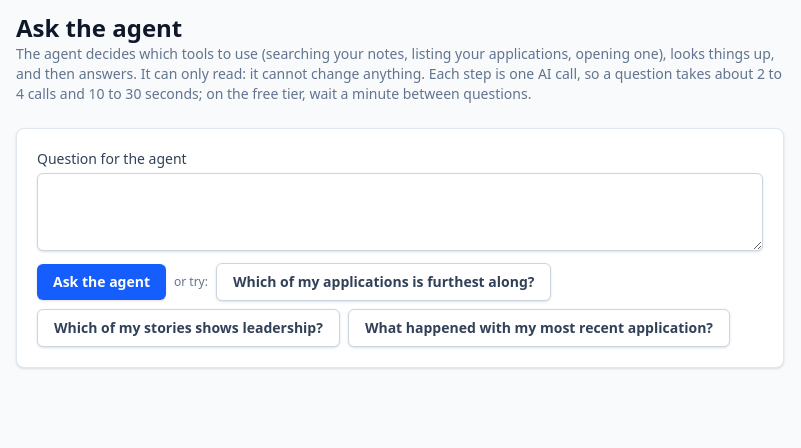
Test: AgentPage › shows backend errors
Type "hi" into the text box labelled "Question for the agent".
click(400, 212); type("hi")  # box 37,173 -> 763,251
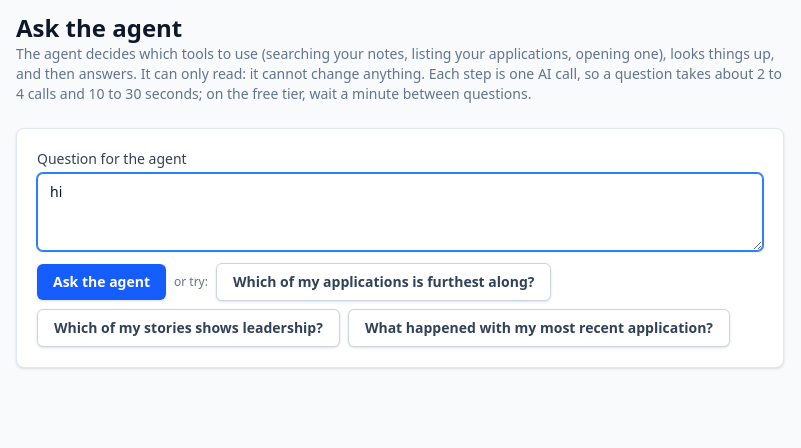
Click the button "Ask the agent".
click(102, 282)  # box 37,264 -> 166,300
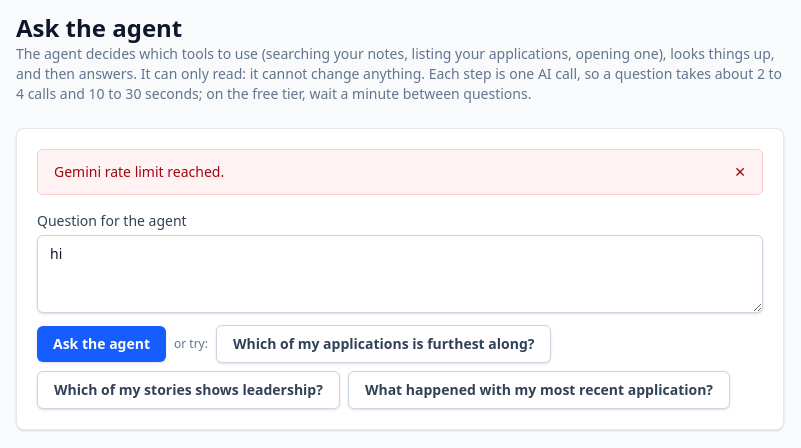
Expected: the message shows "Gemini rate limit reached.", 54,162 -> 224,181
